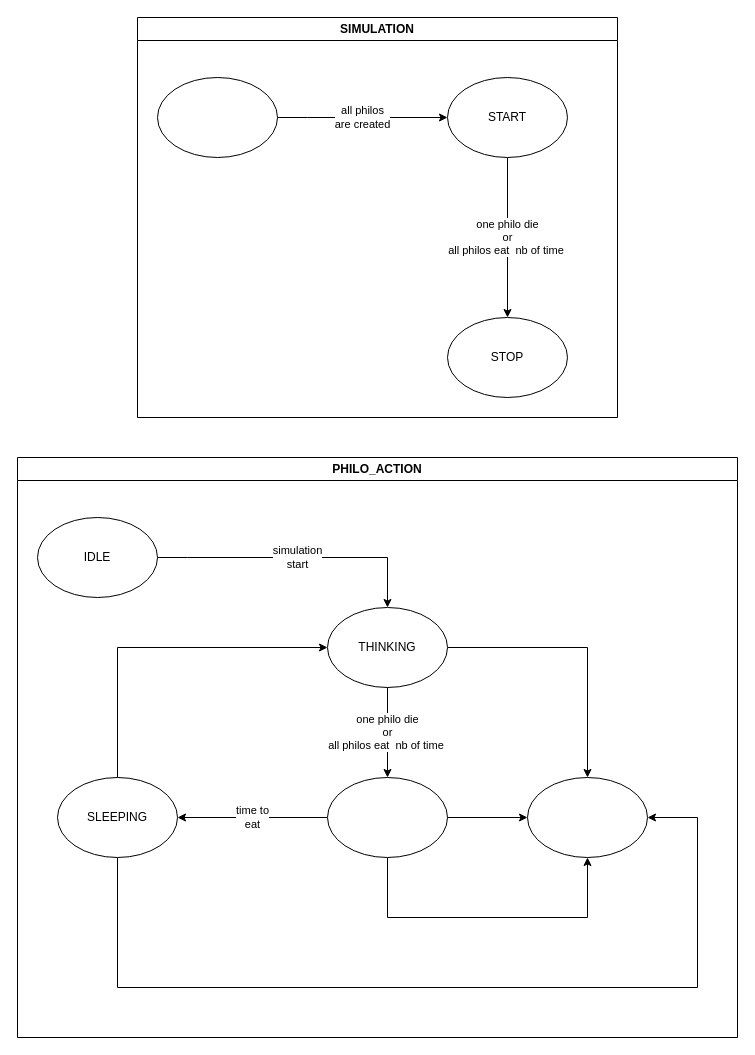
This 755x1055 diagram has some shape labels left out. The shapes that lost their labels are listed below. From the top down, each one's centre as x and y in pixels, then its label:
At point 217,117: "WAIT".
At point 387,817: "EATING".
At point 587,817: "DEAD".
